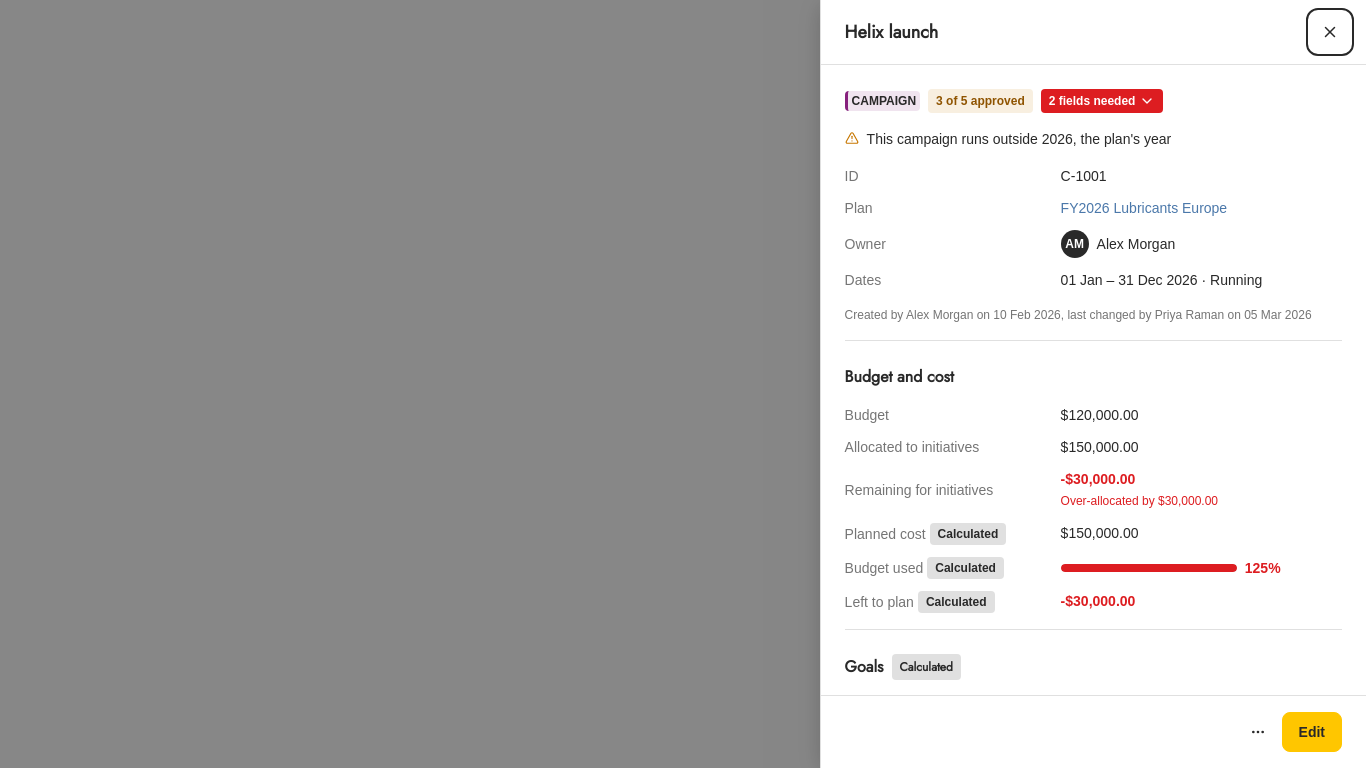
it: CampaignPanel — details (feature 005, US3) › shows planned cost, budget used in red and over-allocation (FR-010, FR-011)
Expected: the text "Over-allocated by $30,000.00" is shown, [1061,491,1218,511]
Expected: the text "$150,000.00" is shown 2 times, [1061,439,1138,455]; [1061,525,1138,541]
Click the button "2 fields needed".
click(1102, 101)  # box [1041,89,1164,113]
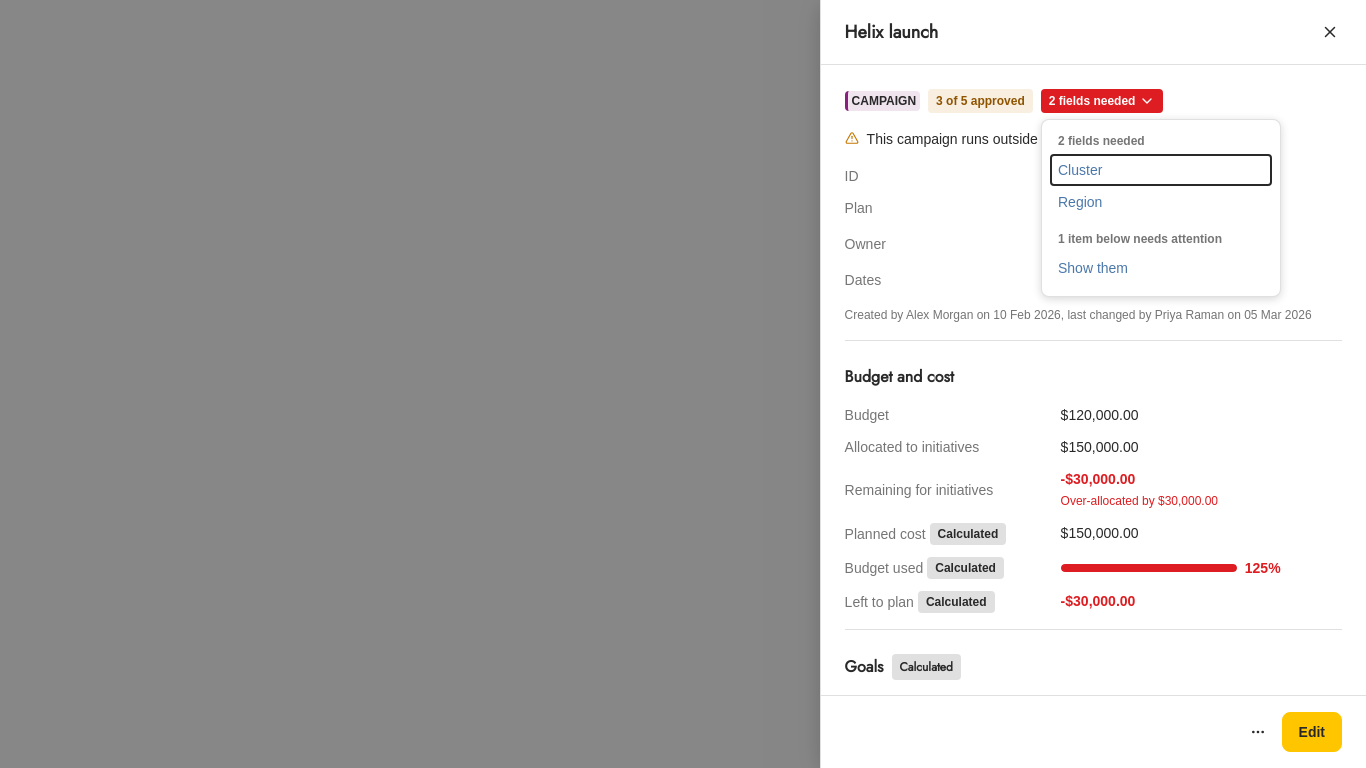
Now the text "1 item below needs attention" is shown, box [1058,232,1222,246]
